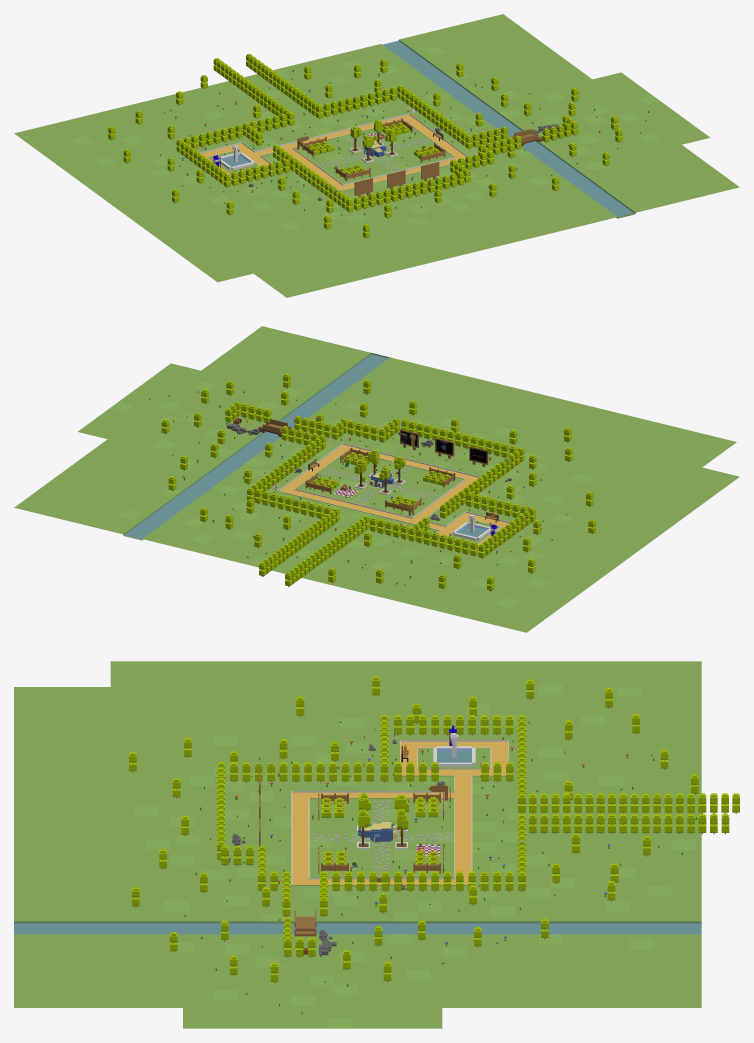
Rendered from Portfolio-map-Snorlax1.glb.
3 views of the same model, one above another, from view 1: azimuth 30°, elevation 25°; view 2: azimuth 150°, elevation 25°; view 3: azimuth 270°, elevation 25° (orthographic). The views are drawn at different scales.
Visible parts, largest first — view 1: Level; view 2: Level; view 3: Level, Snorlax.
Part boxes in pixels (x1,y1,x2,y2): Level: (14,14,739,297); Level: (14,326,739,632); Level: (14,661,739,1028); Snorlax: (358,822,396,842).
Size of what is drawn, in the model's own units: 310 by 15.62 by 259.
Materials: 72 (3 with a texture image).
